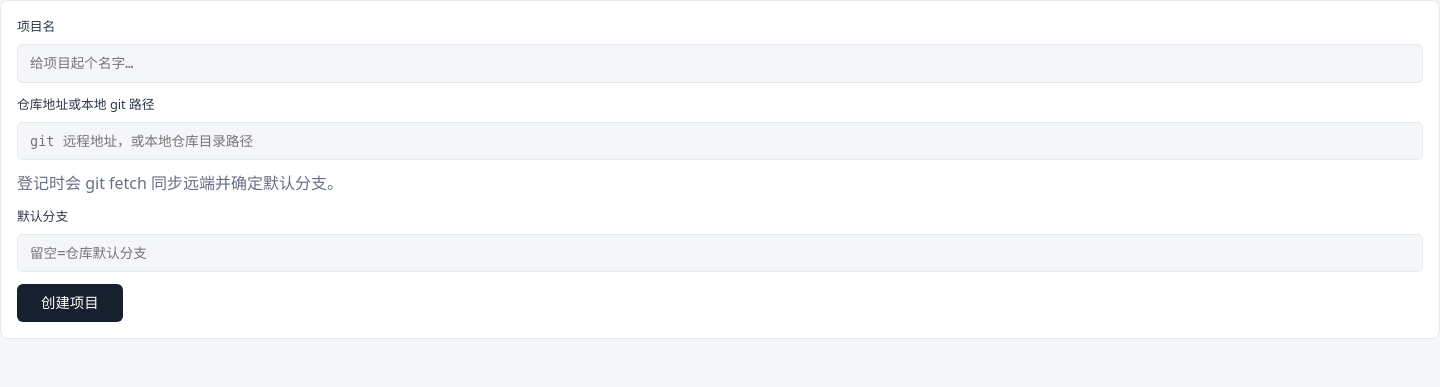
Test: NewProjectForm › shows an inline validation error and does not submit when name or repo is empty
The image size is (1440, 387).
Step 1. Click the button "创建项目" → (70, 303), box top-left (17, 284), bottom-right (123, 322)
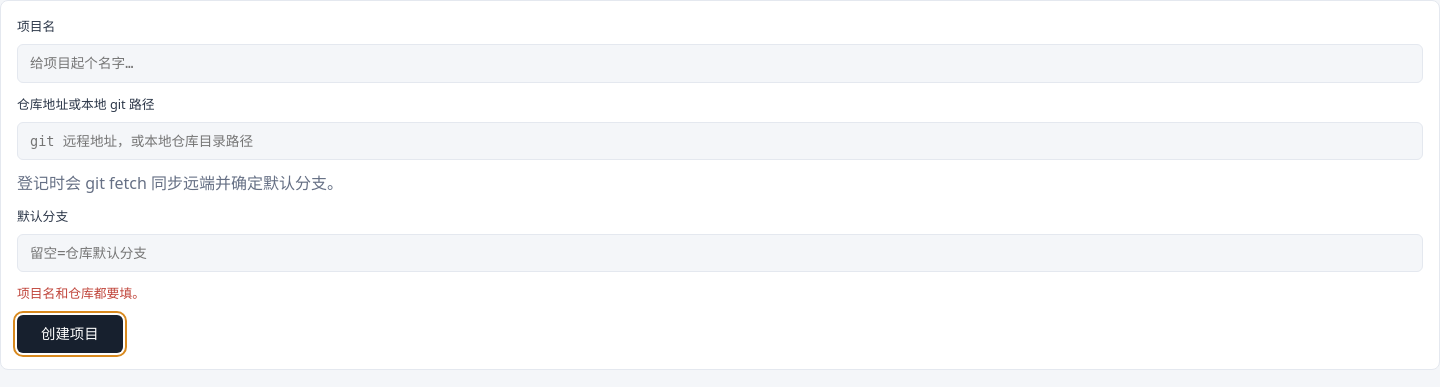
Now the text "项目名和仓库都要填。" is shown, box top-left (17, 284), bottom-right (145, 302)
